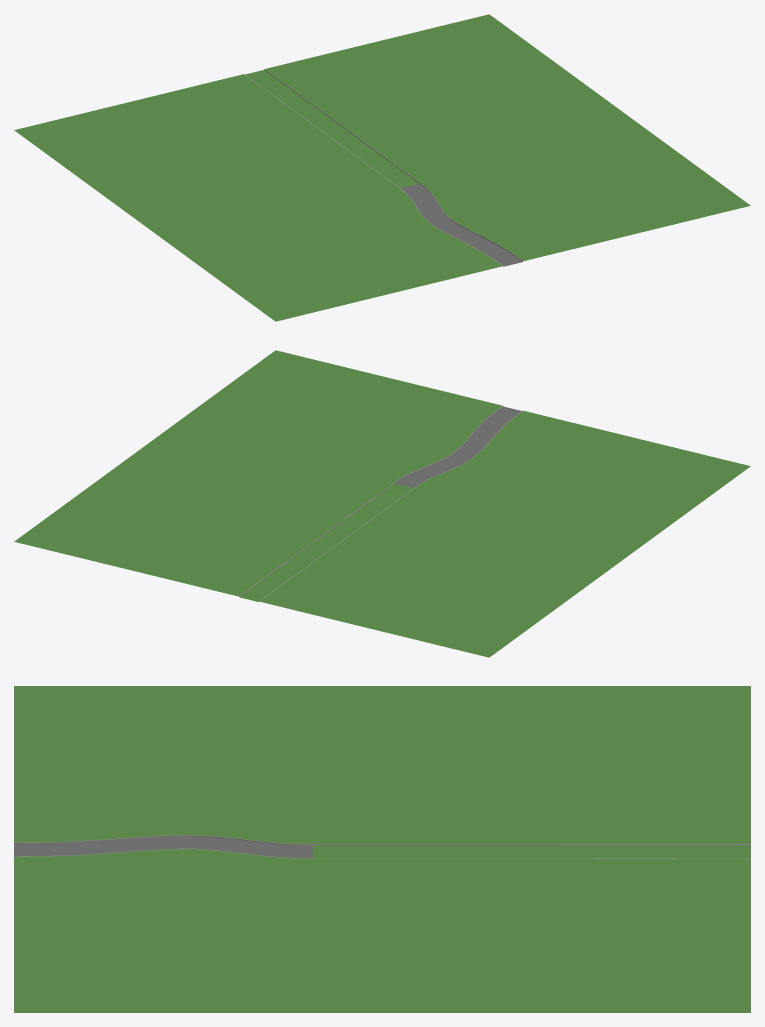
File: LAWN.fbx
3 renders of one model, top to bottom at view 1: azimuth 30°, elevation 25°; view 2: azimuth 150°, elevation 25°; view 3: azimuth 270°, elevation 25°, orthographic. The views are drawn at different scales.
Visible parts, largest first — view 1: Lawn; view 2: Lawn; view 3: Lawn.
Part boxes in pixels (left/top/right/bottom): Lawn: left=14, top=14, right=750, bottom=321; Lawn: left=14, top=350, right=750, bottom=657; Lawn: left=14, top=686, right=750, bottom=1012.
Bounding box in the file's own units: 4792 × 6.33 × 4568.
